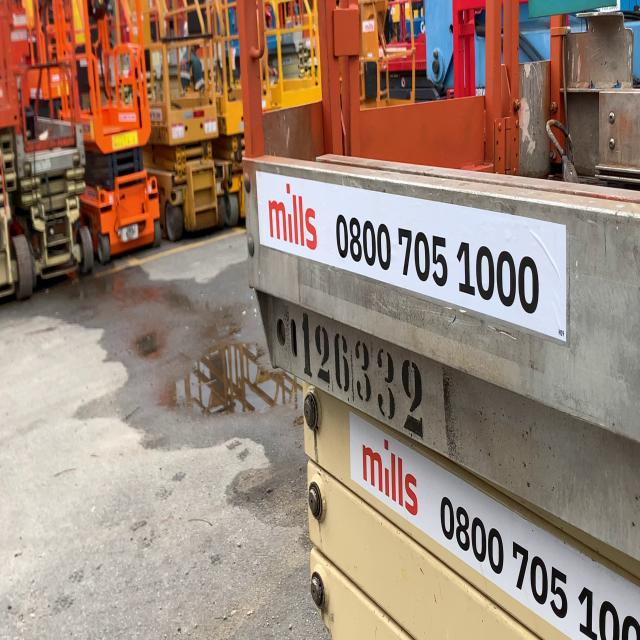Adesivo Longo: (254, 168, 569, 346)
